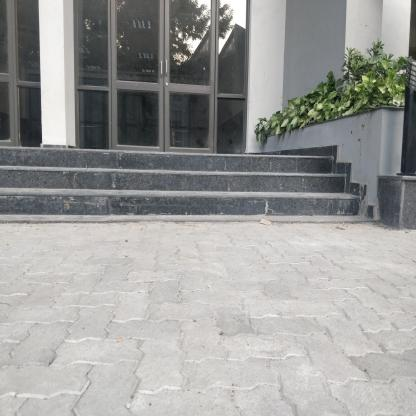stairs: (8, 149, 321, 230)
